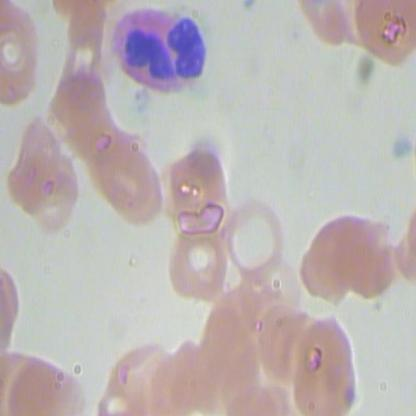RBC: (283, 314, 362, 415), (163, 218, 230, 312), (163, 145, 230, 238), (224, 192, 291, 285), (96, 139, 163, 232), (19, 145, 85, 238), (331, 210, 398, 298), (1, 1, 48, 113), (297, 213, 354, 303), (353, 0, 415, 69)
WBC: (108, 5, 211, 99)
